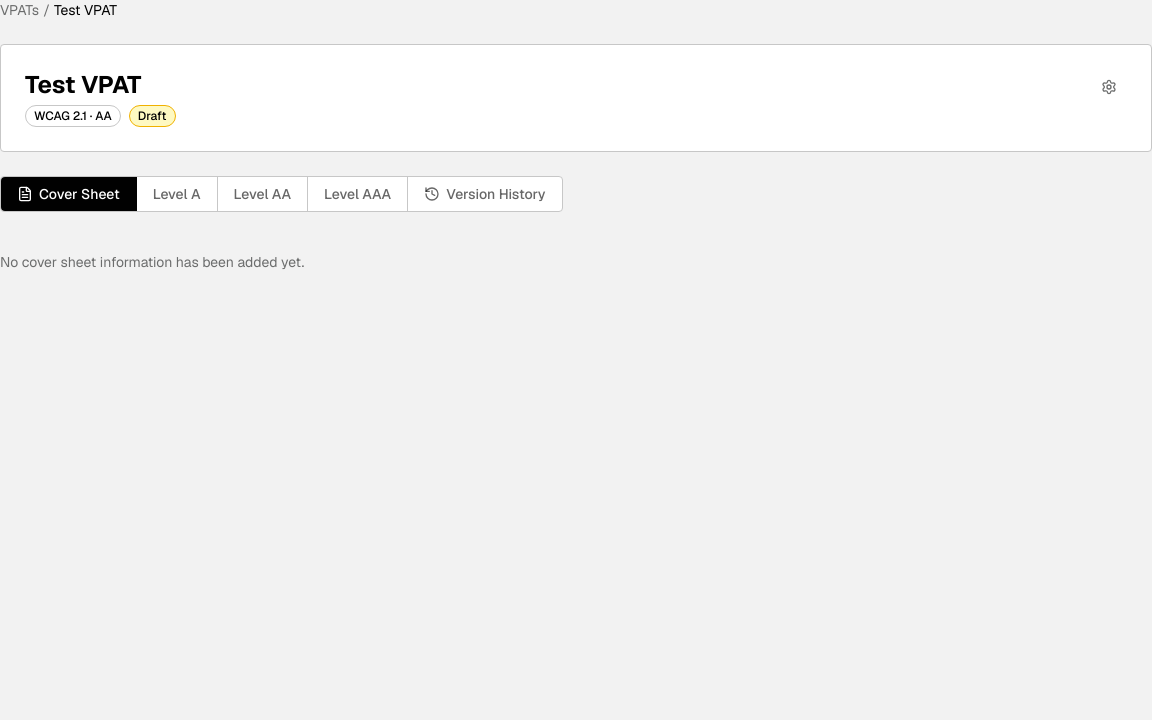
it: VpatDetailPage Review flow › clicking Mark as Reviewed when criteria not all evaluated shows not-ready dialog
The width and height of the screenshot is (1152, 720).
Click the button named "vpat settings". click: (1109, 87)
box: [1091, 69, 1127, 105]
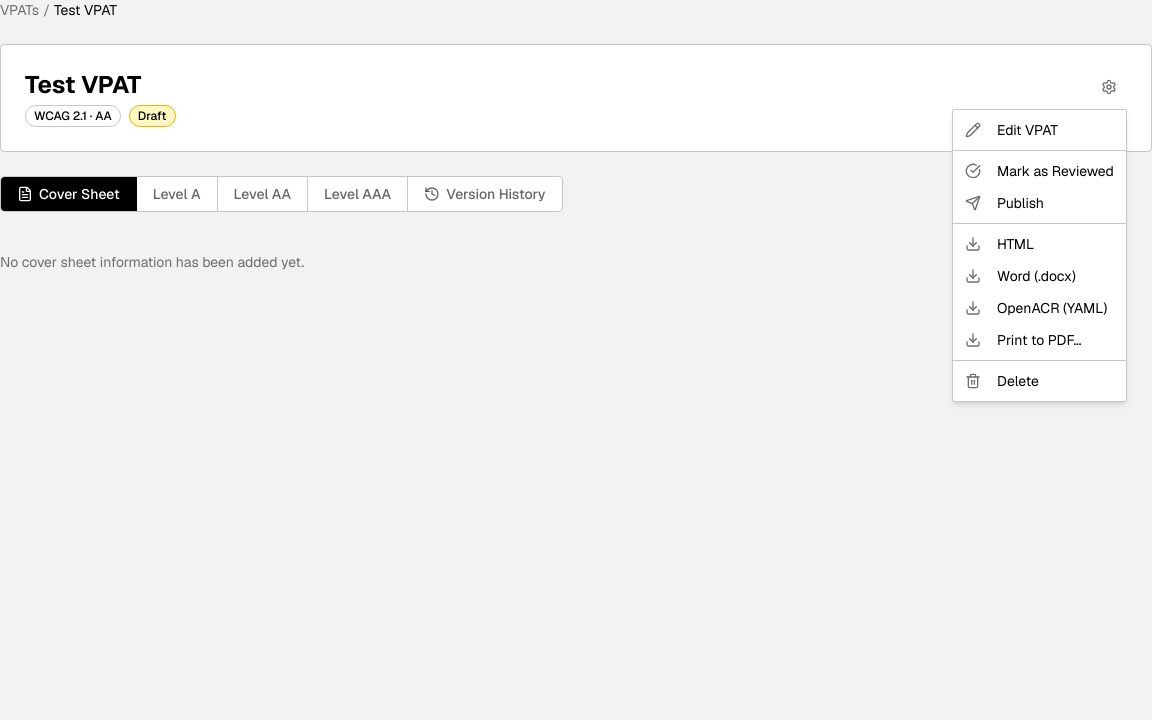
Click the menu item "Mark as Reviewed". click: (1039, 171)
box: [965, 162, 1114, 180]
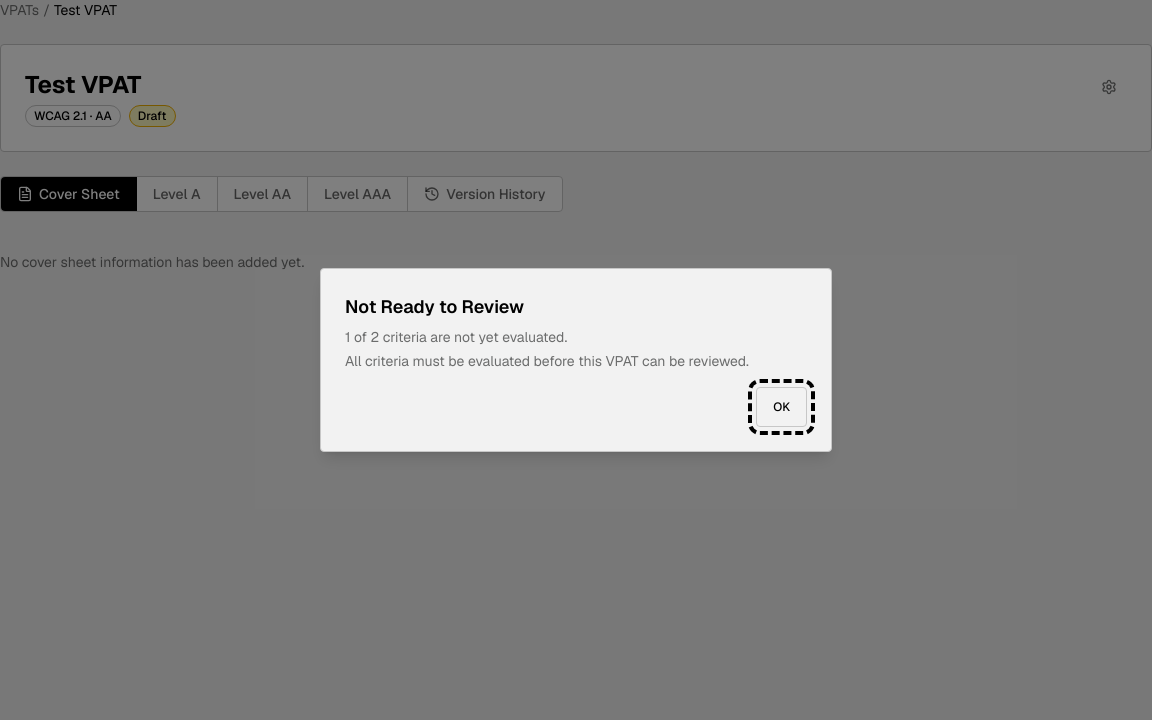
Expected: the dialog is shown, [320, 268, 832, 452]
Expected: the text "1 of 2 criteria are not yet evaluated." is shown, [345, 328, 567, 346]
